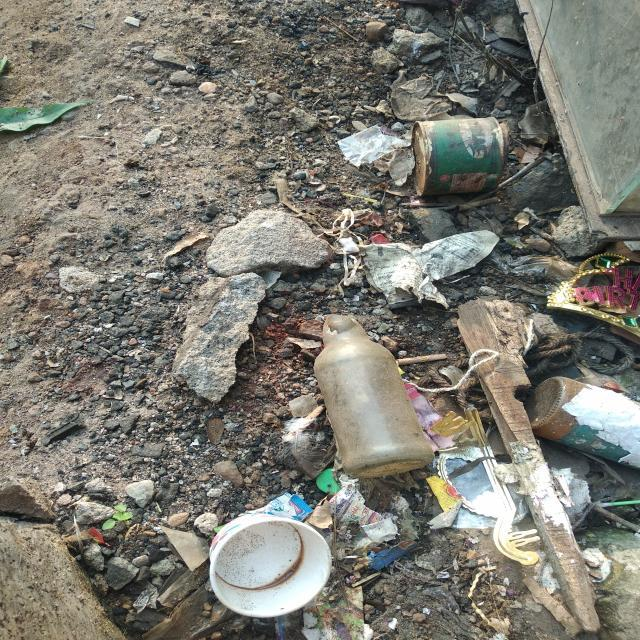garbage: (269, 297, 625, 626), (392, 96, 552, 258), (385, 14, 543, 131), (217, 502, 322, 623), (3, 97, 98, 166)
